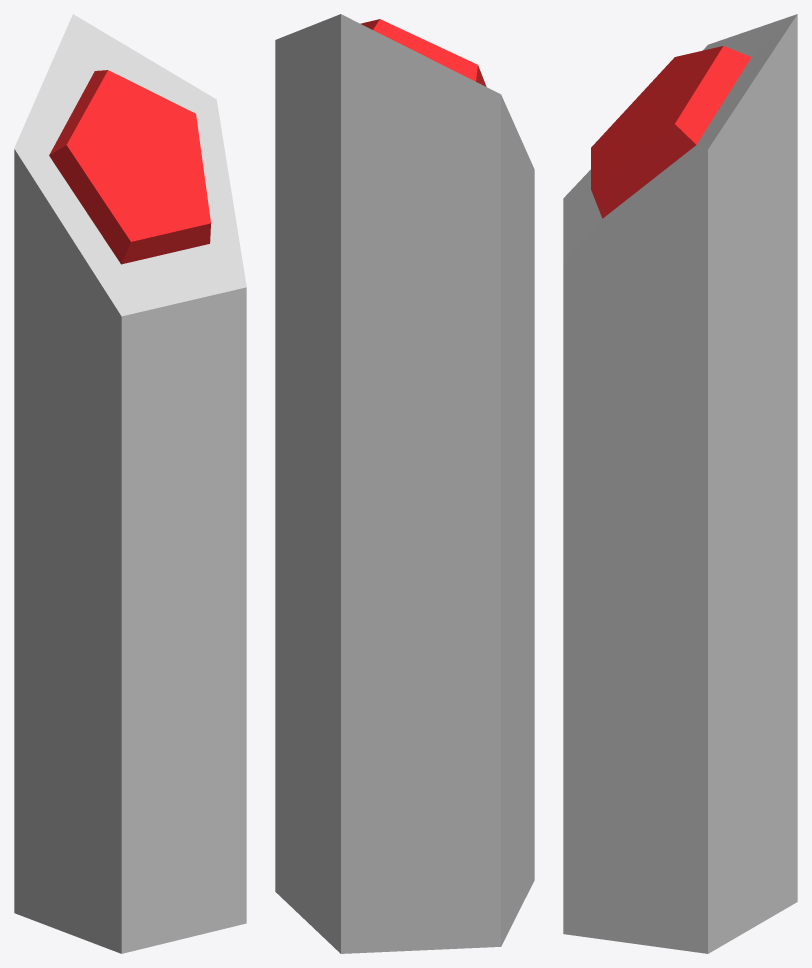
File: SmallButton.fbx
The picture shows the model from 3 angles, left to right: view 1: azimuth 30°, elevation 25°; view 2: azimuth 150°, elevation 25°; view 3: azimuth 270°, elevation 25°; orthographic projection. The views are drawn at different scales.
Parts seen in each view (by area): view 1: SmallButton; view 2: SmallButton; view 3: SmallButton.
Boxes of the visible parts, left/top/right/bottom form: SmallButton: left=14, top=14, right=246, bottom=953; SmallButton: left=275, top=14, right=534, bottom=953; SmallButton: left=563, top=14, right=797, bottom=953.
Bounding box in the file's own units: 59.91 × 238 × 56.98.
